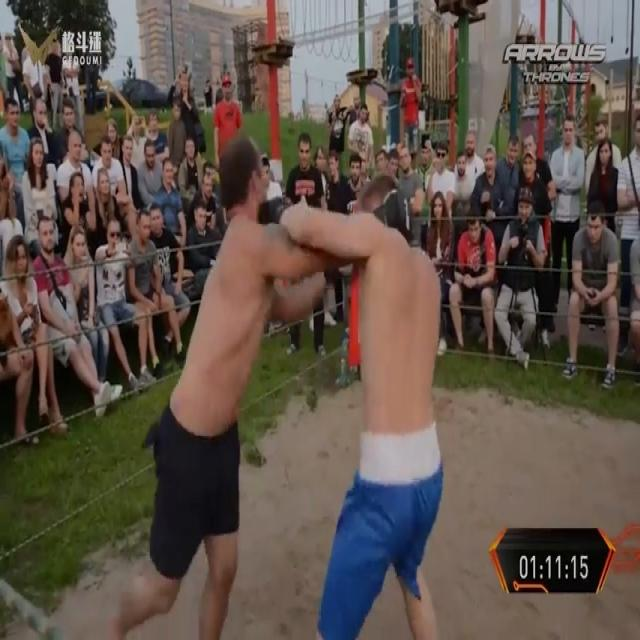fight: (102, 128, 476, 639)
non-fight: (564, 184, 624, 389), (492, 186, 546, 366)
